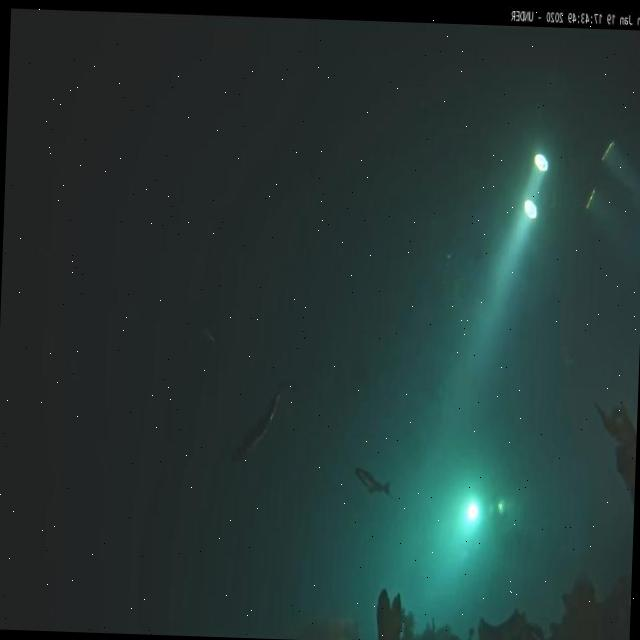fish: (230, 390, 280, 469), (354, 466, 393, 494), (197, 319, 214, 343)
